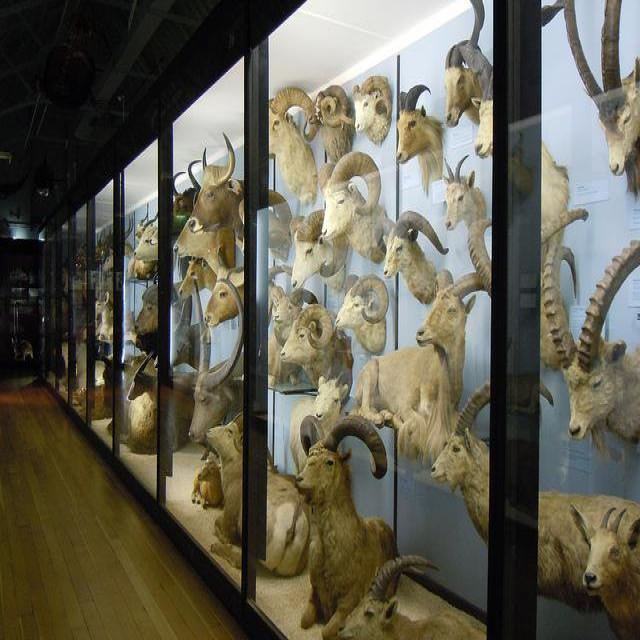Sheep: (429, 376, 639, 617), (350, 271, 486, 461), (294, 413, 402, 639), (542, 240, 639, 467), (335, 552, 474, 639), (576, 502, 639, 638), (320, 152, 392, 264), (443, 154, 495, 298), (280, 303, 354, 389), (332, 272, 390, 355), (173, 223, 235, 277)
